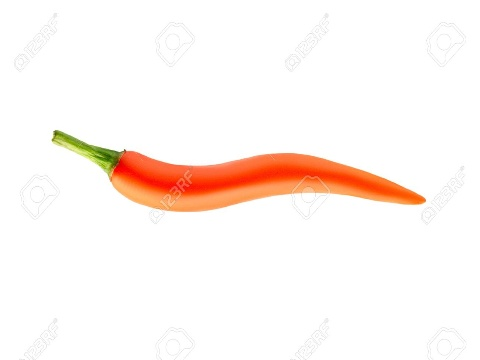Chilli: (43, 105, 464, 234)
